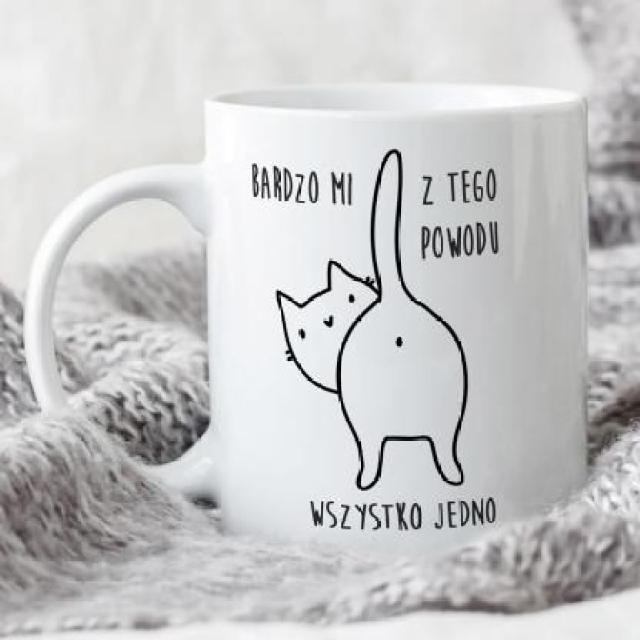cup: (18, 82, 597, 557)
